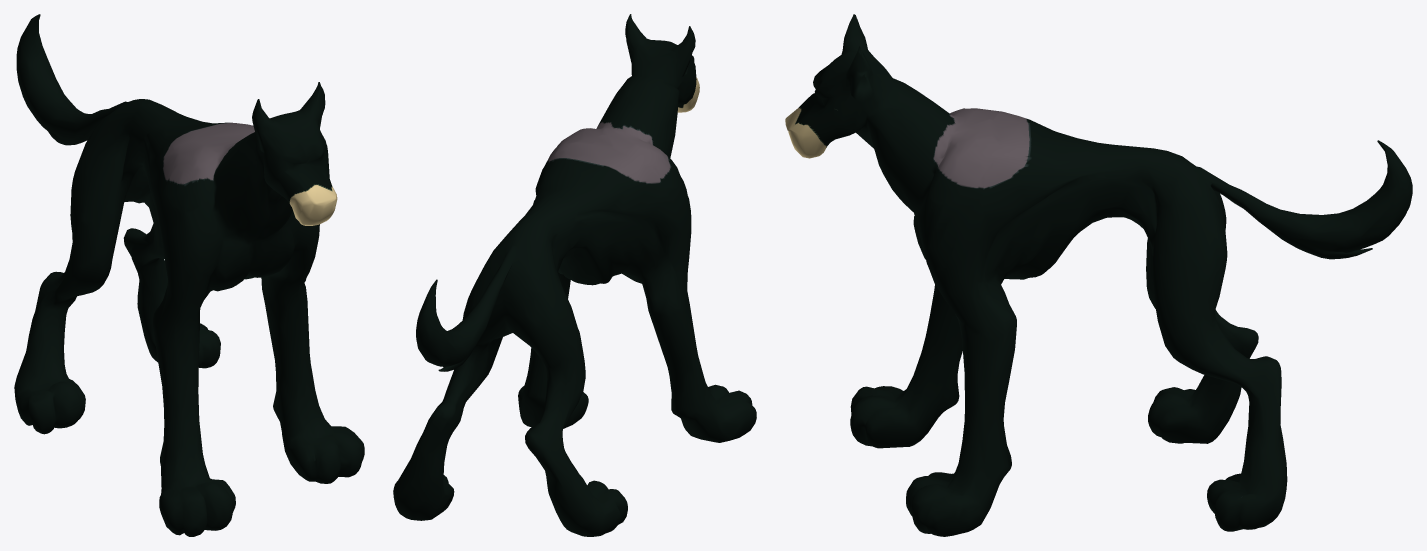
Rendered from hound.glb.
3 renders of one model, left to right at view 1: azimuth 30°, elevation 25°; view 2: azimuth 150°, elevation 25°; view 3: azimuth 270°, elevation 25°, orthographic. The views are drawn at different scales.
Parts seen in each view (by area): view 1: hound; view 2: hound; view 3: hound.
Boxes of the visible parts, <box> form: hound: <box>14,14,364,536</box>; hound: <box>393,14,756,536</box>; hound: <box>785,14,1412,536</box>.
Size of the model in its own units: 1.02 by 1.87 by 2.33.
1 material, 1 textured.
